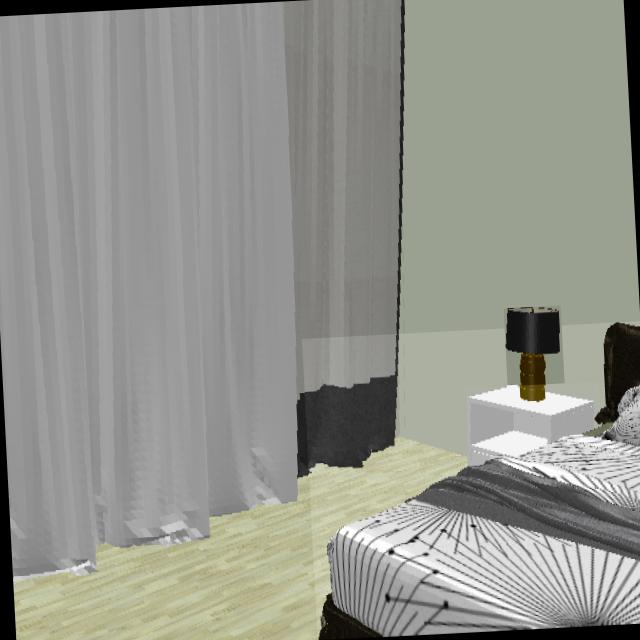bed: (318, 323, 640, 640)
lamp: (506, 309, 563, 403)
nighttable: (468, 386, 600, 465)
